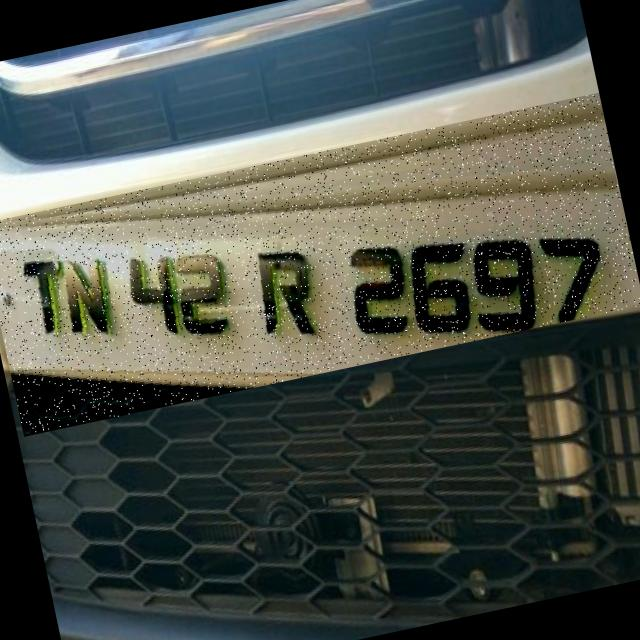Plate: (1, 93, 640, 437)
